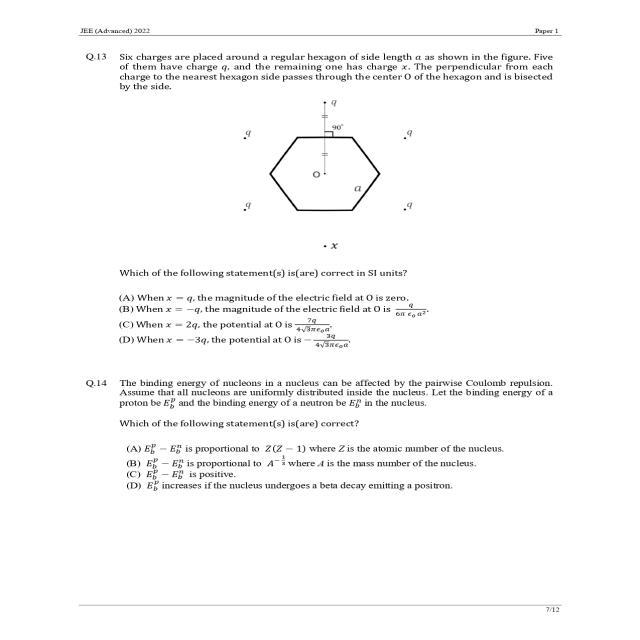Answer_Block: (66, 438, 592, 516), (66, 290, 592, 356)
Question_Answer_Block: (66, 43, 592, 355), (66, 361, 592, 516)
Question_Block: (66, 43, 592, 284), (66, 361, 592, 433)
Question_Paper_Area: (66, 43, 592, 586)
